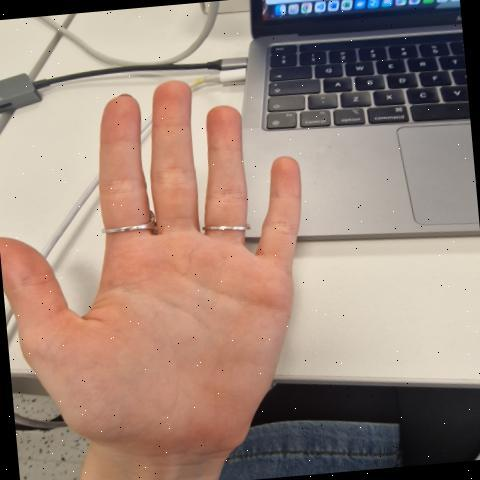Hands: (0, 69, 341, 459)
